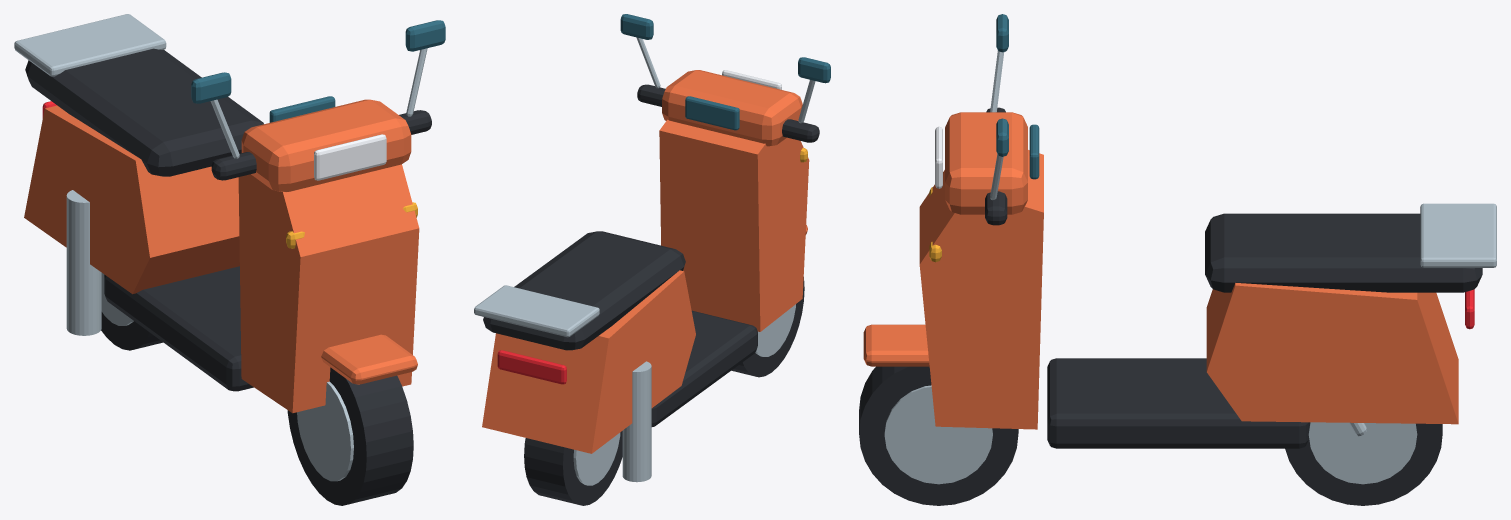
Rendered from taiwan-scooter.glb.
3 renders of one model, left to right at view 1: azimuth 30°, elevation 25°; view 2: azimuth 150°, elevation 25°; view 3: azimuth 270°, elevation 25°, orthographic. The views are drawn at different scales.
Visible parts, largest first — view 1: Front fairing, Rear body, Two-place saddle, Step-through floor, Scooter tyre.001, Handlebar nacelle, Rear rack, Exhaust, Scooter alloy.002, Front fender, Headlamp, Scooter tyre (+8 smaller); view 2: Front fairing, Rear body, Two-place saddle, Handlebar nacelle, Step-through floor, Rear rack, Scooter tyre, Exhaust, Rear light, Scooter alloy, Scooter tyre.001, Instrument panel (+6 smaller); view 3: Rear body, Front fairing, Step-through floor, Two-place saddle, Scooter tyre.001, Handlebar nacelle, Scooter alloy.003, Scooter alloy.001, Rear rack, Scooter tyre, Front fender.
Part boxes in pixels (box(x1,y1,x2,y2)): Front fairing: box(238, 164, 419, 413); Rear body: box(24, 105, 239, 294); Two-place saddle: box(25, 48, 263, 176); Step-through floor: box(104, 266, 253, 391); Scooter tyre.001: box(287, 367, 413, 505); Handlebar nacelle: box(241, 99, 411, 192); Rear rack: box(14, 14, 166, 76); Exhaust: box(66, 190, 101, 335); Scooter alloy.002: box(297, 381, 353, 481); Front fender: box(321, 334, 417, 384); Headlamp: box(314, 134, 386, 180); Scooter tyre: box(101, 312, 162, 350); Front fairing: box(659, 119, 809, 331); Rear body: box(482, 270, 695, 453); Two-place saddle: box(483, 231, 685, 350); Handlebar nacelle: box(662, 70, 802, 146); Step-through floor: box(651, 310, 757, 426); Rear rack: box(474, 285, 599, 337); Scooter tyre: box(524, 431, 622, 505); Exhaust: box(622, 361, 651, 482); Rear light: box(497, 350, 566, 384); Scooter alloy: box(573, 432, 620, 485); Scooter tyre.001: box(731, 277, 804, 377); Instrument panel: box(685, 96, 739, 130); Rear body: box(1206, 283, 1458, 424); Front fairing: box(919, 150, 1043, 429); Step-through floor: box(1047, 358, 1308, 448); Two-place saddle: box(1205, 213, 1482, 292); Scooter tyre.001: box(859, 366, 1018, 505); Handlebar nacelle: box(945, 112, 1027, 214); Scooter alloy.003: box(884, 385, 992, 484); Scooter alloy.001: box(1308, 422, 1417, 484); Rear rack: box(1420, 203, 1496, 267); Scooter tyre: box(1285, 422, 1442, 505); Front fender: box(863, 324, 929, 366).
Bounding box in the file's own units: 0.915 × 1.46 × 2.
